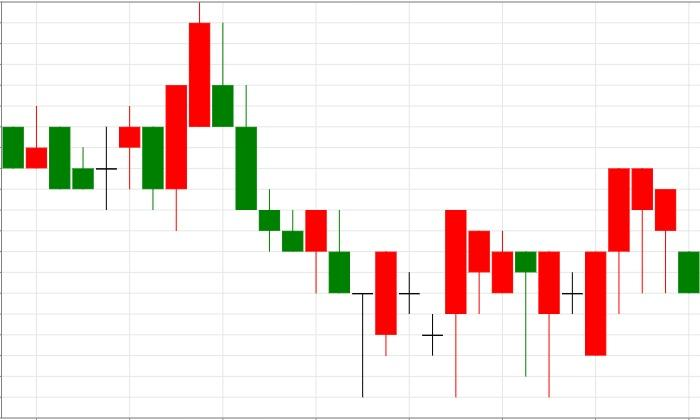three_black_crows_fall: (143, 2, 281, 251)
